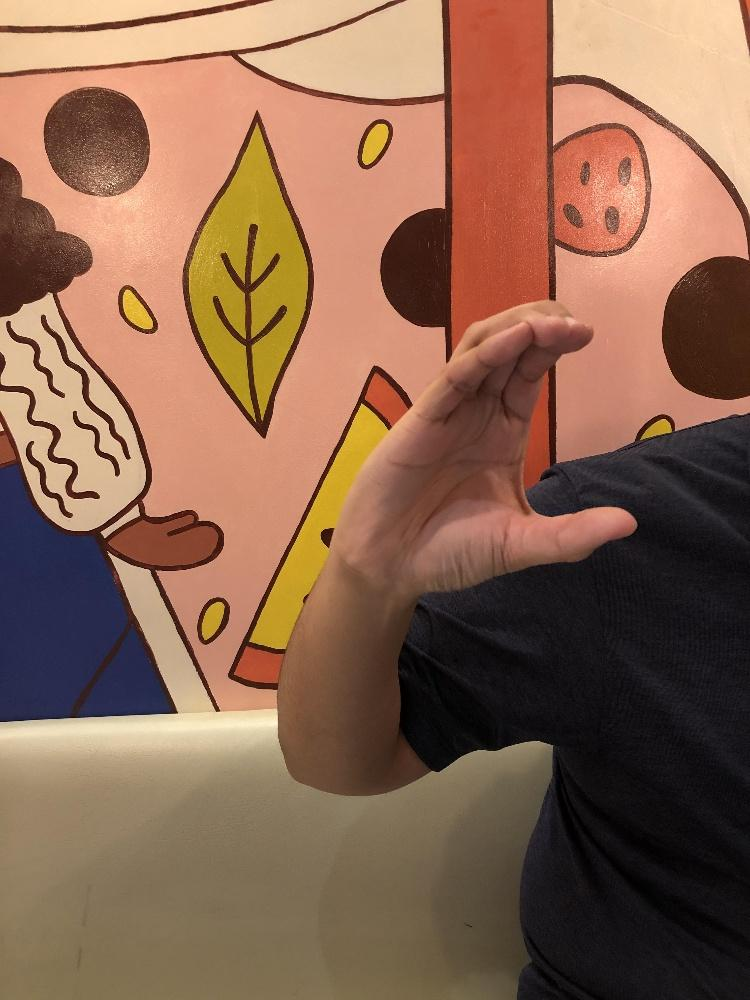c: (339, 296, 640, 594)
